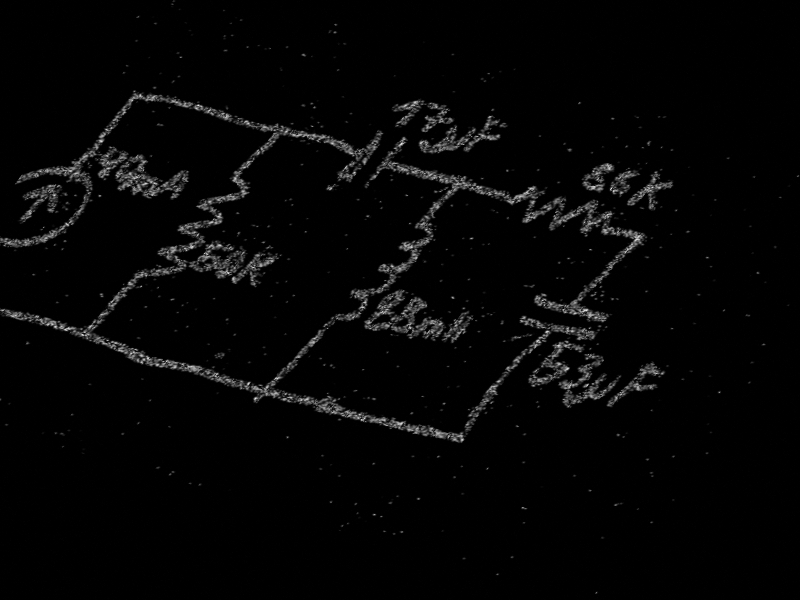0: (107, 150, 153, 189), (209, 246, 253, 283)
1: (373, 89, 430, 135)
3: (554, 348, 608, 396)
4: (82, 142, 135, 184)
5: (520, 337, 587, 395), (185, 236, 237, 278)
6: (601, 164, 645, 200)
7: (404, 98, 463, 141)
8: (356, 284, 419, 338), (382, 293, 434, 339), (572, 158, 622, 197)
A: (146, 163, 201, 208)
F: (605, 357, 673, 415), (458, 114, 515, 161)
H: (436, 309, 480, 348)
k: (624, 167, 682, 215), (227, 247, 282, 292)
m: (116, 169, 164, 201), (406, 314, 452, 345)
u: (424, 121, 477, 163), (573, 369, 624, 410)
